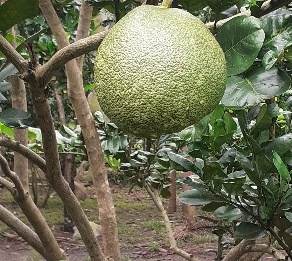Buoi: (77, 6, 233, 139)
